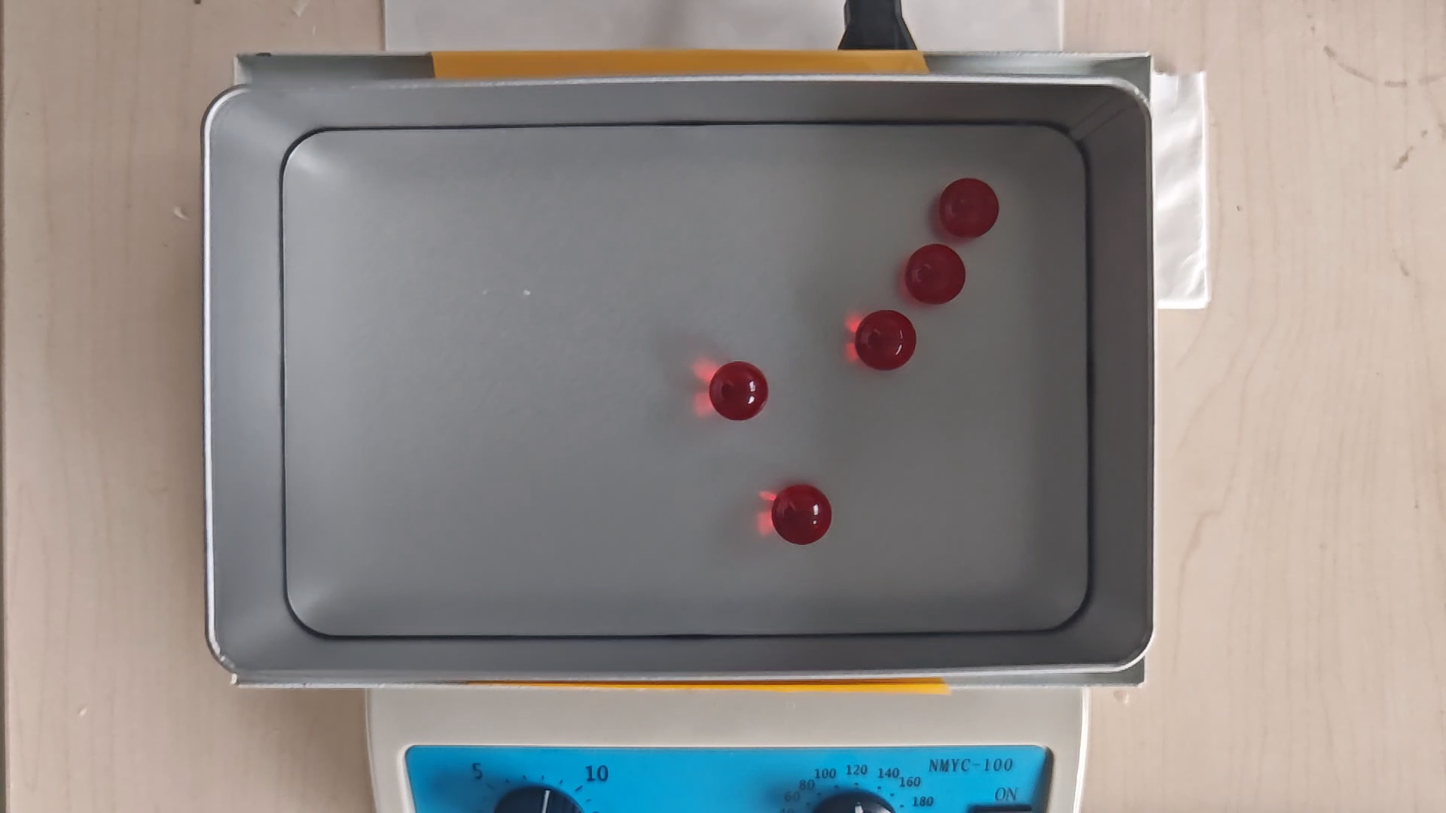ball: (905, 243, 968, 306), (938, 178, 998, 238), (708, 361, 767, 420), (857, 313, 917, 369), (773, 485, 831, 542)
container: (279, 120, 1088, 638)
